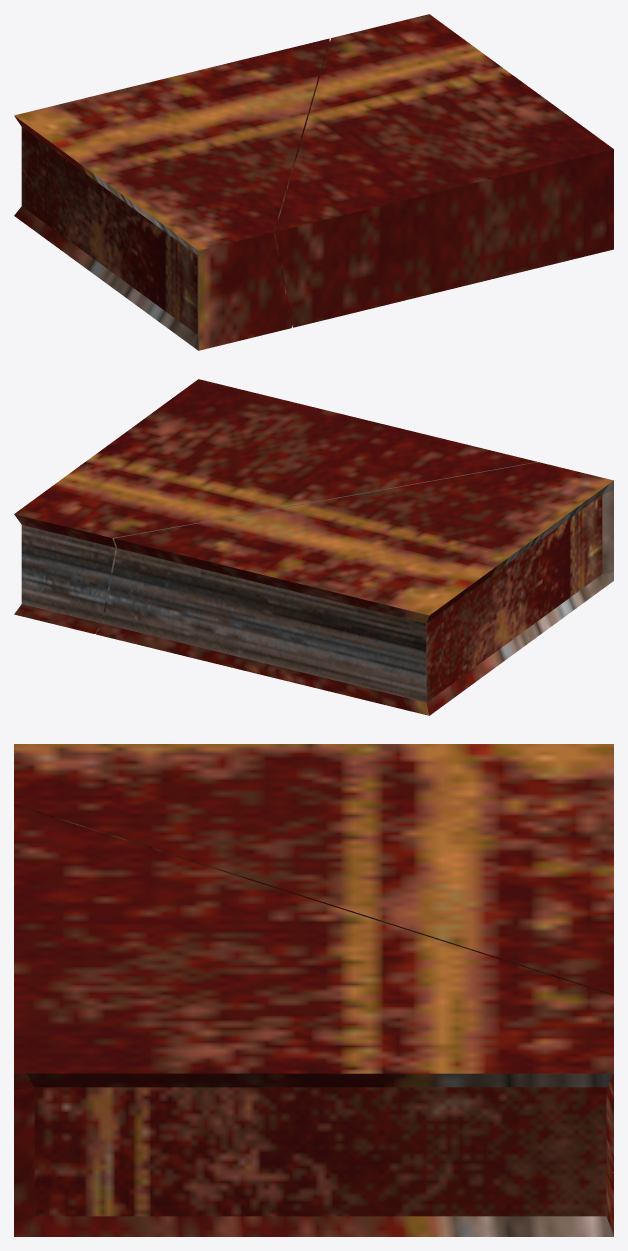
File: book_des.fbx
3 renders of one model, top to bottom at view 1: azimuth 30°, elevation 25°; view 2: azimuth 150°, elevation 25°; view 3: azimuth 270°, elevation 25°, orthographic. The views are drawn at different scales.
Visible parts, largest first — view 1: book_cell.001, book_cell; view 2: book_cell, book_cell.001; view 3: book_cell.001, book_cell.
Boxes of the visible parts, box(x1,y1,x2,y2) form: book_cell.001: box(275, 14, 613, 327); book_cell: box(14, 38, 329, 350); book_cell: box(96, 462, 613, 715); book_cell.001: box(14, 379, 536, 633); book_cell.001: box(14, 805, 613, 1236); book_cell: box(14, 744, 613, 1171).
Size of the model in its own units: 68.64 by 15.84 by 52.8.
